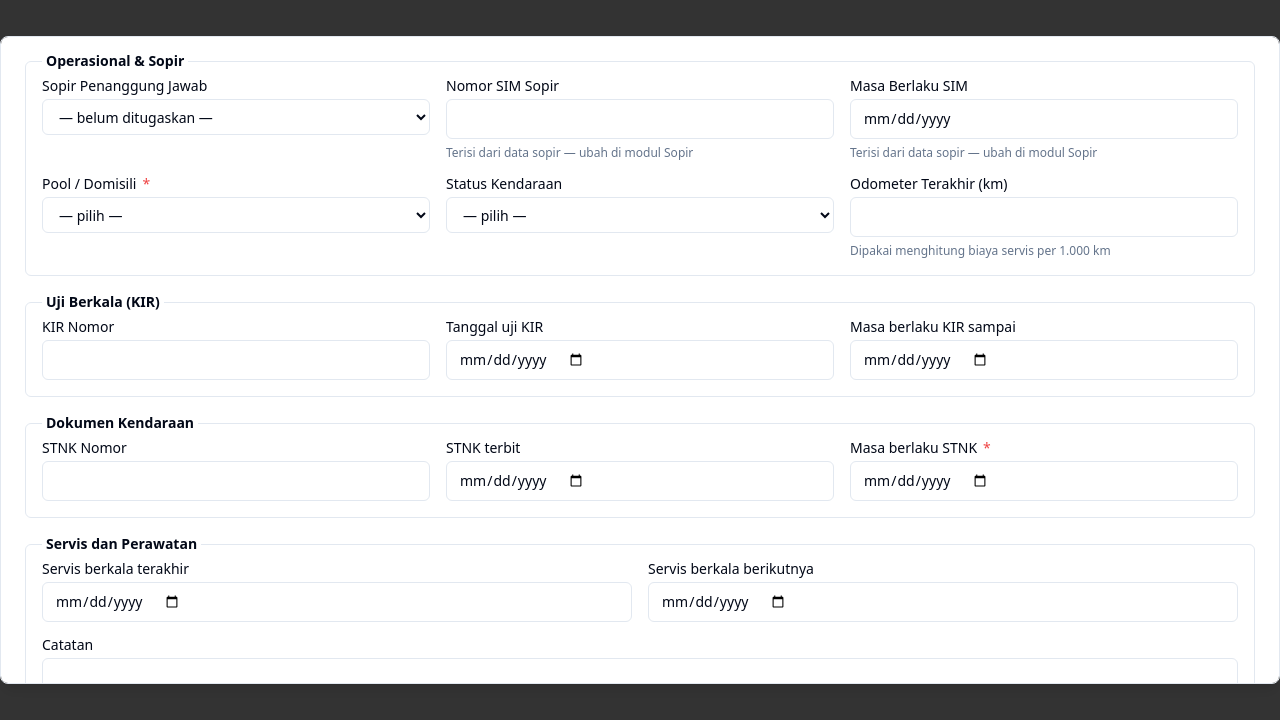
VehicleFormDialog › pre-fills the KIR expiry six months after the test date
(page scrolled)
In the date field labelled "Tanggal uji KIR": (640, 360) top-left (446, 340), bottom-right (834, 380), type "2026-03-10"
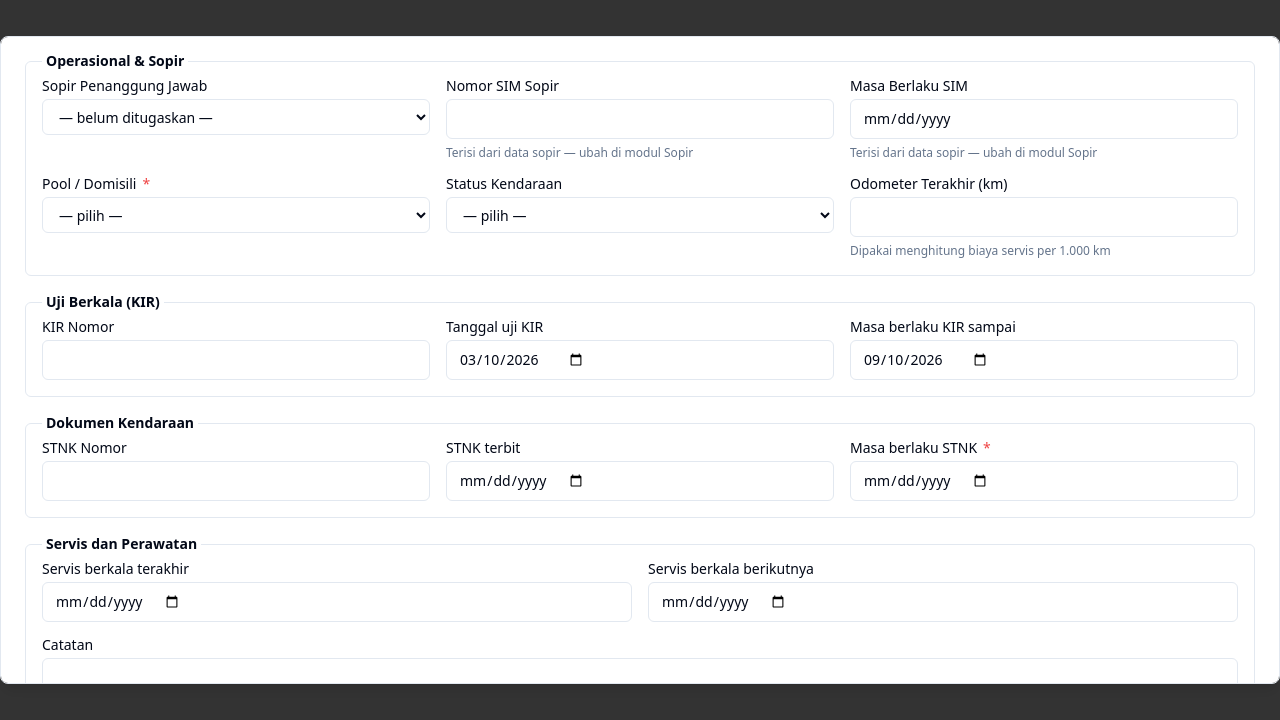
expect the date field labelled "Masa berlaku KIR sampai" holds "2026-09-10": met, box top-left (850, 340), bottom-right (1238, 380)
